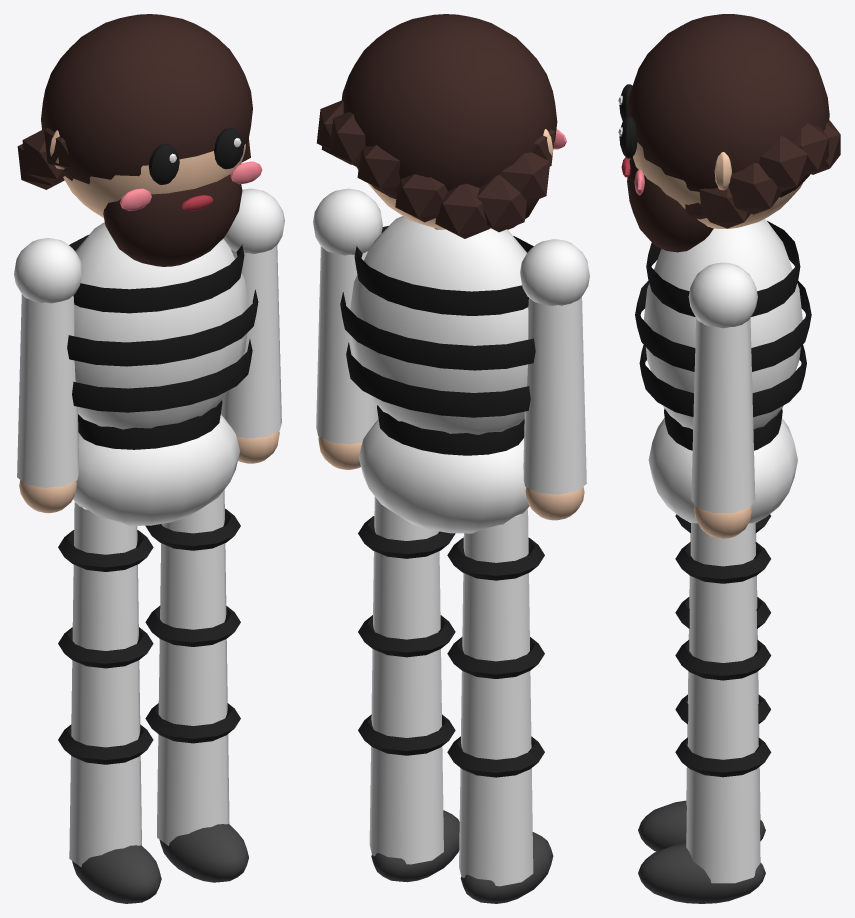
Rendered from interiors_perp.glb.
3 renders of one model, left to right at view 1: azimuth 30°, elevation 25°; view 2: azimuth 150°, elevation 25°; view 3: azimuth 270°, elevation 25°, orthographic. The views are drawn at different scales.
Visible parts, largest first — view 1: Body.005, Acc.004, Leg_R.005, Leg_L.005, Arm_R.005, Arm_L.005; view 2: Body.005, Acc.004, Leg_R.005, Leg_L.005, Arm_R.005, Arm_L.005; view 3: Body.005, Leg_L.005, Acc.004, Arm_L.005, Leg_R.005.
Boxes of the visible parts, x1,y1,x2,y2 form: Body.005: (17,14,262,525); Acc.004: (58,235,258,764); Leg_R.005: (69,501,161,903); Leg_L.005: (157,489,248,882); Arm_R.005: (14,238,82,513); Arm_L.005: (221,188,284,463); Body.005: (316,14,566,533); Acc.004: (340,226,544,777); Leg_R.005: (459,508,553,903); Leg_L.005: (369,496,459,882); Arm_R.005: (520,239,589,520); Arm_L.005: (313,188,382,469); Body.005: (618,14,840,523); Leg_L.005: (638,522,765,903); Acc.004: (635,221,811,777); Arm_L.005: (688,262,757,538); Leg_R.005: (638,533,765,851).
Bounding box in the file's own units: 0.57 × 1.77 × 0.4166.
